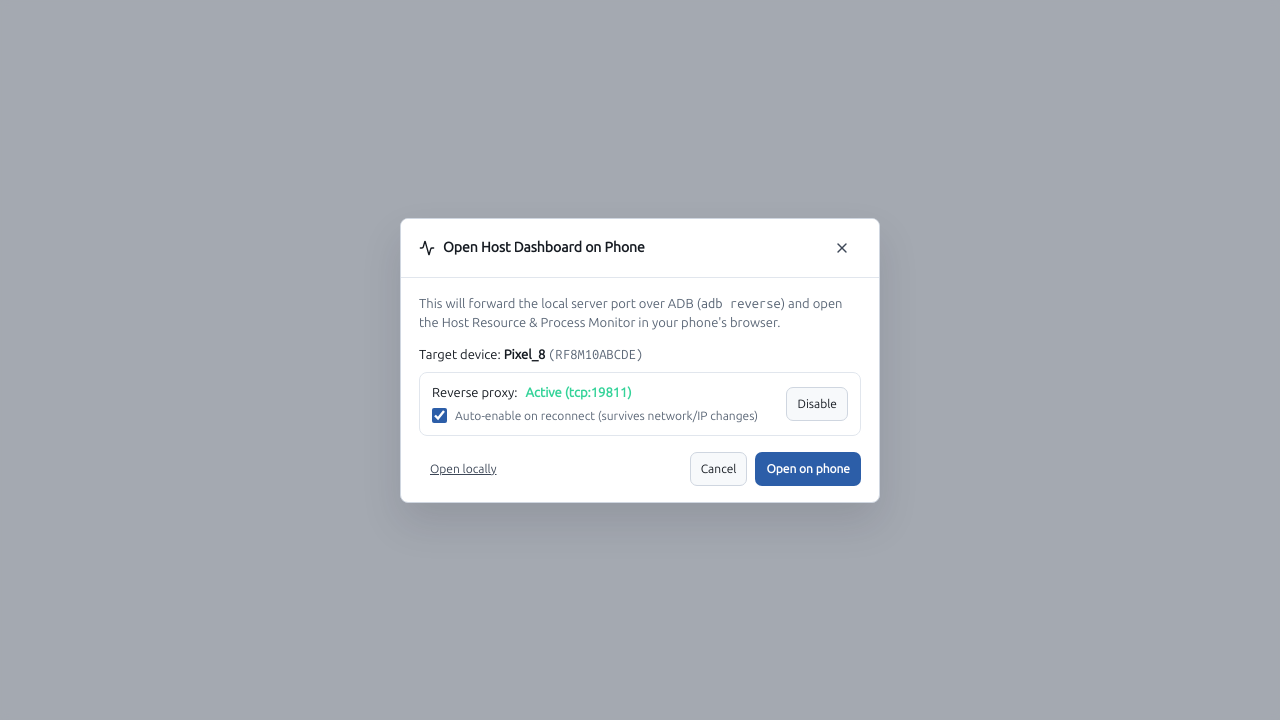
Test: HostPhoneModal › displays reverse proxy status and allows enabling and disabling
Expected: the text "Active (tcp:19811)" is shown, [526,383,632,402]
What coordinates should you click on to do the following:
click the button "Disable"
I would click on:
 (817, 404)
Its box is [786,387,848,421].
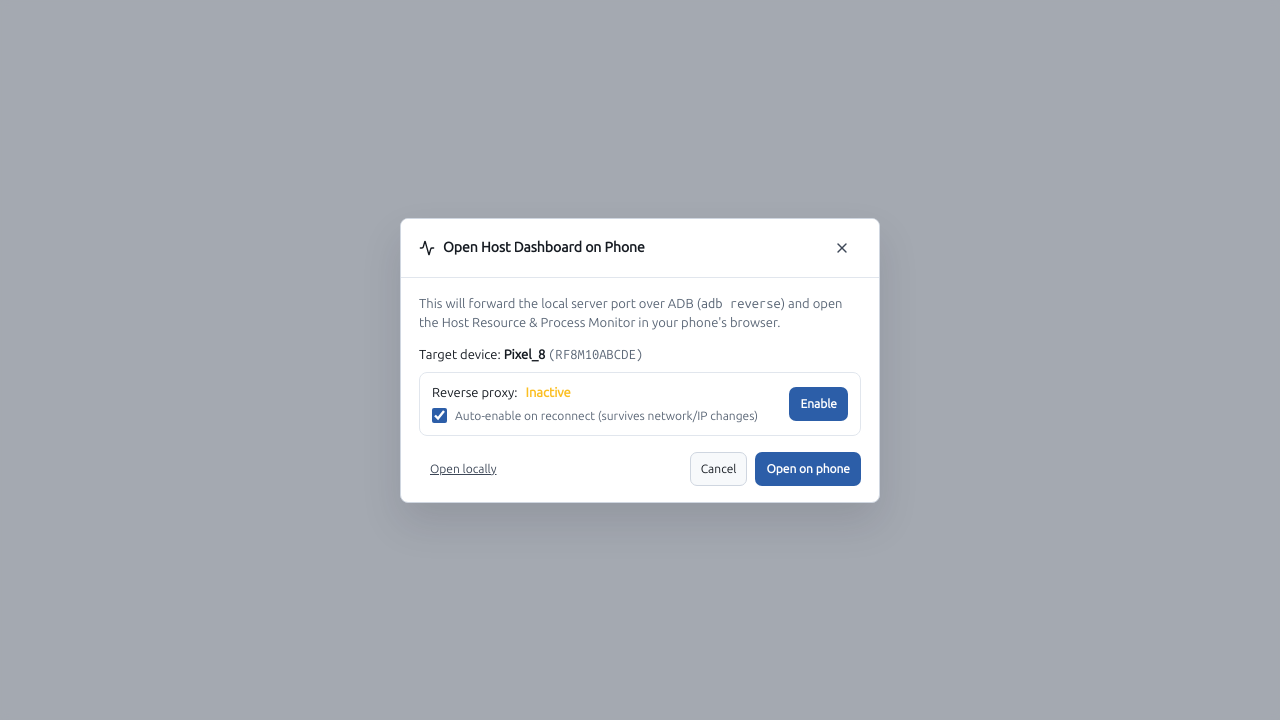
Result: the text "Inactive" is shown at [526,383,571,402]
